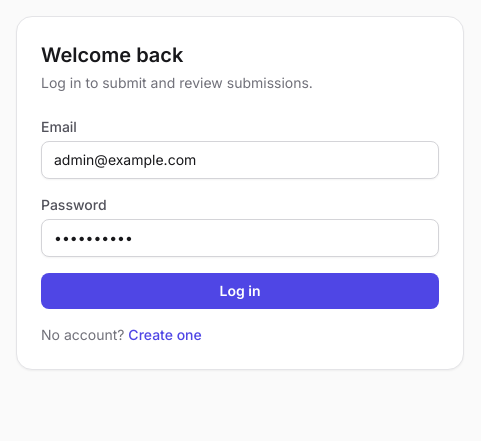
it: LoginPage › renders the API error message on failed login
Click the button "Log in".
click(240, 291)  # box [41,273,439,309]
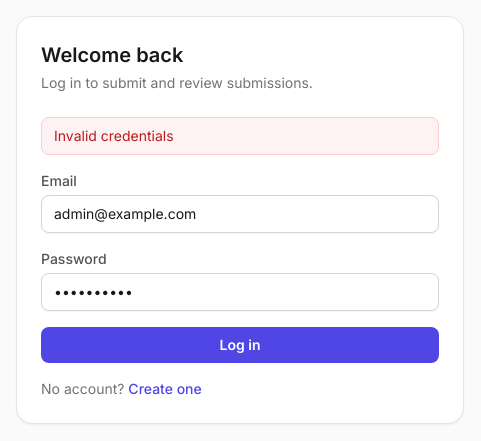
expect the text "Invalid credentials" is shown: met, box [41,117,439,155]
